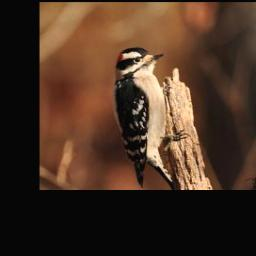Woodpecker: (113, 43, 190, 187)
